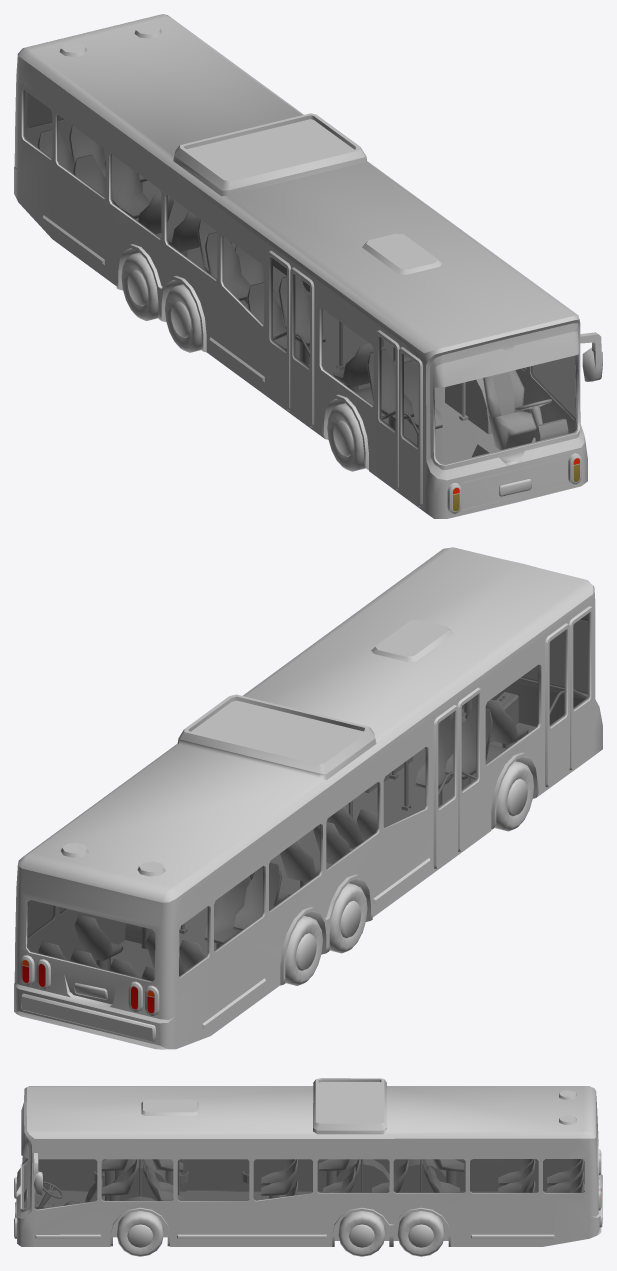
Rendered from TP_Bus_01B.fbx.
3 views of the same model, one above another, from view 1: azimuth 30°, elevation 25°; view 2: azimuth 150°, elevation 25°; view 3: azimuth 270°, elevation 25° (orthographic). The views are drawn at different scales.
Parts seen in each view (by area): view 1: TP_Bus_01B_Body, TP_Bus_01B_Door_3, TP_Bus_01B_Door_4, TP_Bus_01B_Door_1, TP_Bus_01B_Door_2, TP_Bus_01B_Wheel_R.R, TP_Bus_01B_Wheel_M.R, TP_Bus_01B_Wheel_F.R; view 2: TP_Bus_01B_Body, TP_Bus_01B_Door_4, TP_Bus_01B_Door_2, TP_Bus_01B_Door_3, TP_Bus_01B_Door_1, TP_Bus_01B_Wheel_F.R, TP_Bus_01B_Wheel_M.R, TP_Bus_01B_Wheel_R.R; view 3: TP_Bus_01B_Body, TP_Bus_01B_Wheel_R.L, TP_Bus_01B_Wheel_M.L, TP_Bus_01B_Wheel_F.L, TP_Bus_01B_Door_3, TP_Bus_01B_Door_4, TP_Bus_01B_Door_2, TP_Bus_01B_Door_1.
Part boxes in pixels (x1=…): TP_Bus_01B_Body: x1=14, y1=14, x2=602, y2=518; TP_Bus_01B_Door_3: x1=290, y1=267, x2=314, y2=427; TP_Bus_01B_Door_4: x1=267, y1=250, x2=290, y2=410; TP_Bus_01B_Door_1: x1=399, y1=347, x2=422, y2=506; TP_Bus_01B_Door_2: x1=376, y1=330, x2=399, y2=489; TP_Bus_01B_Wheel_R.R: x1=121, y1=252, x2=158, y2=320; TP_Bus_01B_Wheel_M.R: x1=164, y1=284, x2=201, y2=352; TP_Bus_01B_Wheel_F.R: x1=327, y1=403, x2=365, y2=471; TP_Bus_01B_Body: x1=14, y1=547, x2=602, y2=1049; TP_Bus_01B_Door_4: x1=433, y1=705, x2=458, y2=868; TP_Bus_01B_Door_2: x1=545, y1=623, x2=569, y2=787; TP_Bus_01B_Door_3: x1=457, y1=687, x2=481, y2=851; TP_Bus_01B_Door_1: x1=569, y1=606, x2=593, y2=770; TP_Bus_01B_Wheel_F.R: x1=494, y1=761, x2=534, y2=831; TP_Bus_01B_Wheel_M.R: x1=329, y1=883, x2=367, y2=953; TP_Bus_01B_Wheel_R.R: x1=285, y1=916, x2=322, y2=985; TP_Bus_01B_Body: x1=14, y1=1078, x2=602, y2=1246; TP_Bus_01B_Wheel_R.L: x1=397, y1=1211, x2=444, y2=1256; TP_Bus_01B_Wheel_M.L: x1=338, y1=1211, x2=385, y2=1256; TP_Bus_01B_Wheel_F.L: x1=117, y1=1211, x2=163, y2=1256; TP_Bus_01B_Door_3: x1=180, y1=1159, x2=215, y2=1190; TP_Bus_01B_Door_4: x1=216, y1=1159, x2=248, y2=1190; TP_Bus_01B_Door_2: x1=68, y1=1159, x2=104, y2=1190; TP_Bus_01B_Door_1: x1=38, y1=1159, x2=67, y2=1190.
Bounding box in the file's own units: 3.32 × 3.24 × 13.31.
